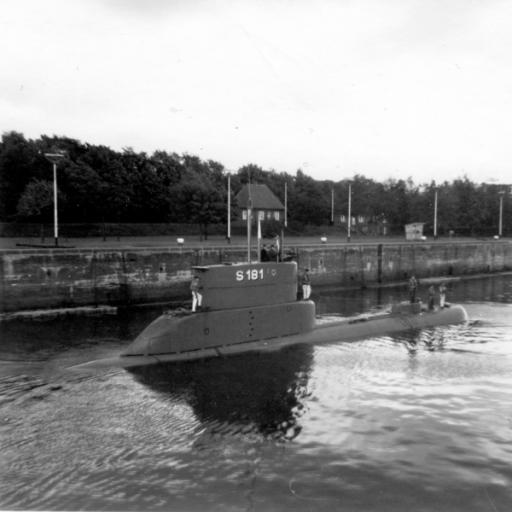submarine: (73, 261, 478, 370)
